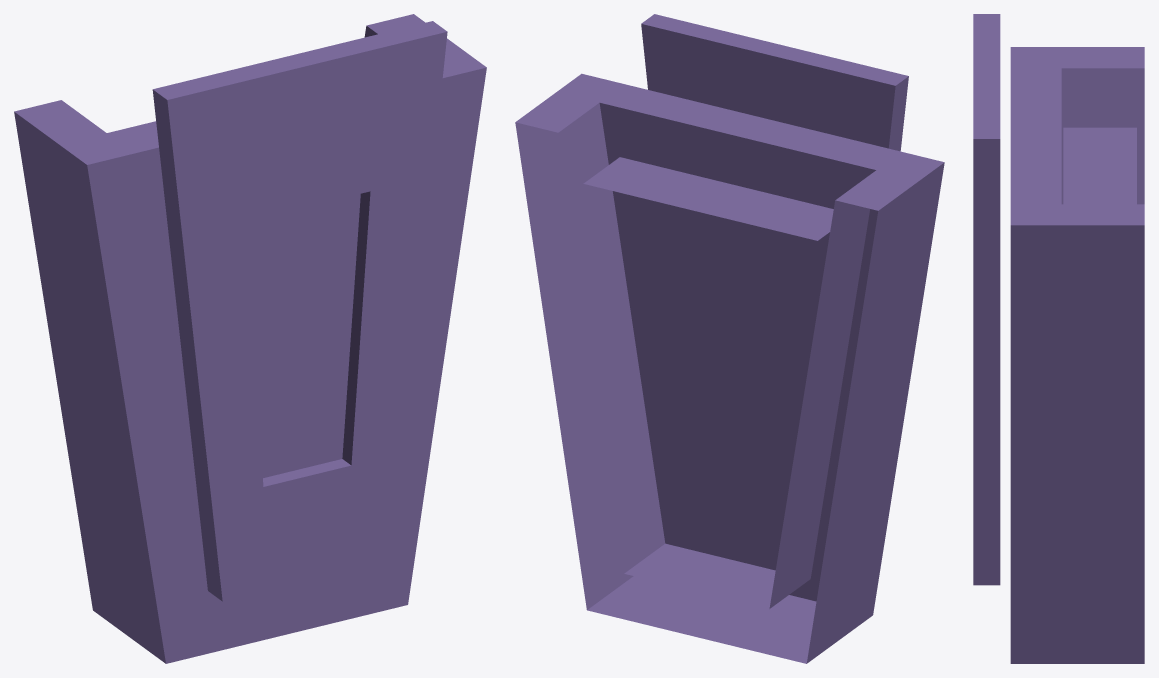
Rendered from Light_Theater.fbx.
The picture shows the model from 3 angles, left to right: view 1: azimuth 30°, elevation 25°; view 2: azimuth 150°, elevation 25°; view 3: azimuth 270°, elevation 25°; orthographic projection. The views are drawn at different scales.
Visible parts, largest first — view 1: Light_Theater; view 2: Light_Theater; view 3: Light_Theater.
Boxes of the visible parts, left/top/right/bottom form: Light_Theater: left=14, top=14, right=486, bottom=663; Light_Theater: left=515, top=14, right=944, bottom=663; Light_Theater: left=973, top=14, right=1144, bottom=663.
Bounding box in the file's own units: 32.04 × 44.68 × 12.99.
